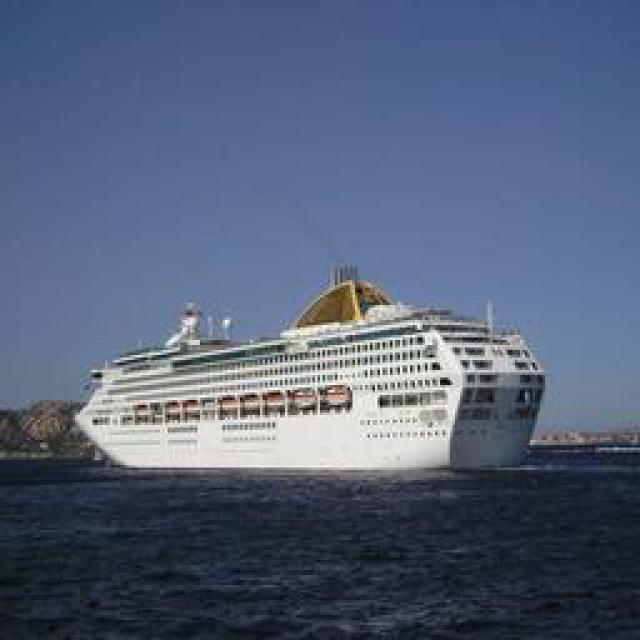Ship: (72, 275, 570, 478)
